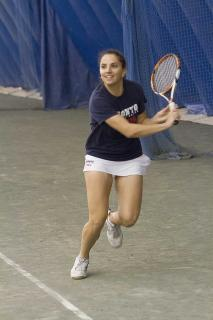person - v3 P: (71, 49, 179, 278)
